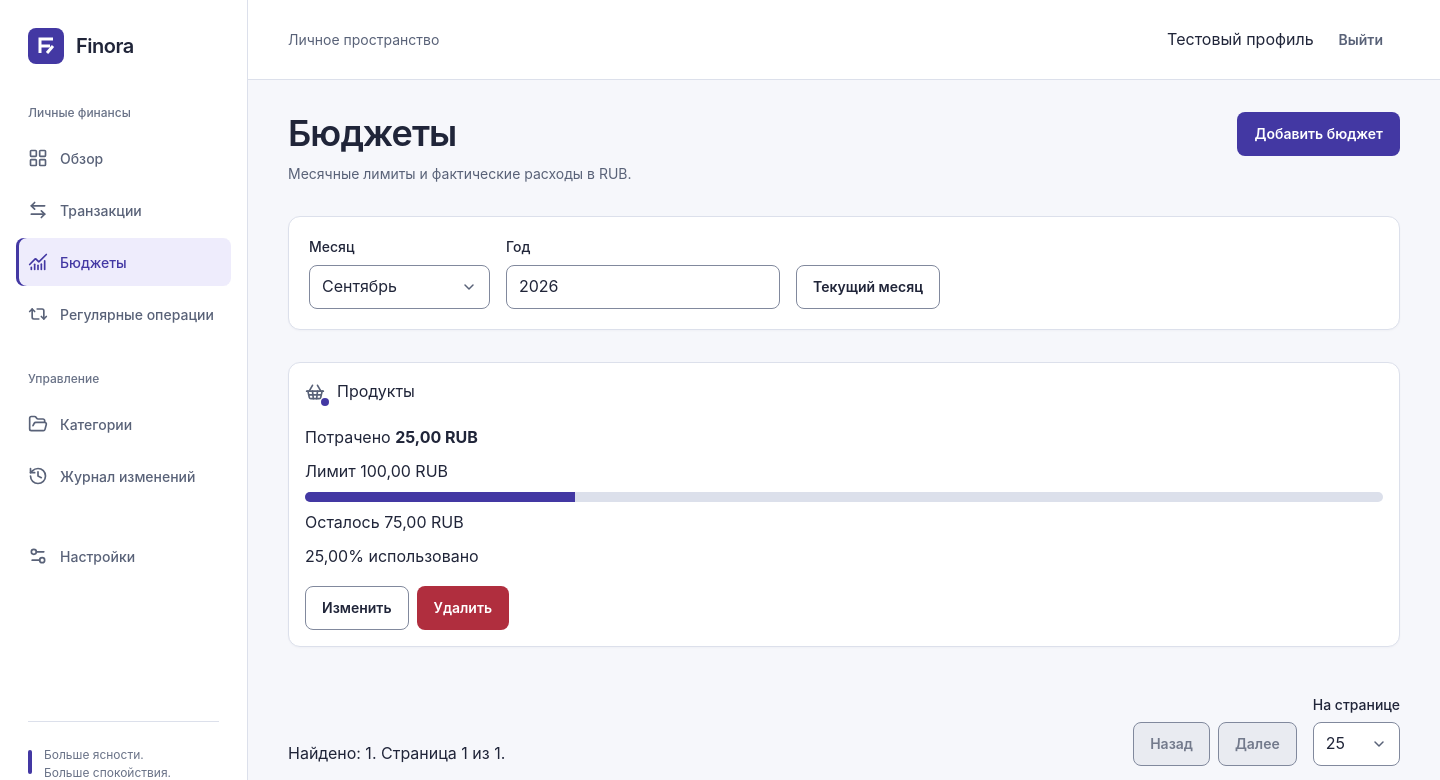
Test: Budget edit отправляет PATCH, обновляет результат без reload
The width and height of the screenshot is (1440, 780).
Click the button "Изменить": (357, 608) [305,586,408,630]
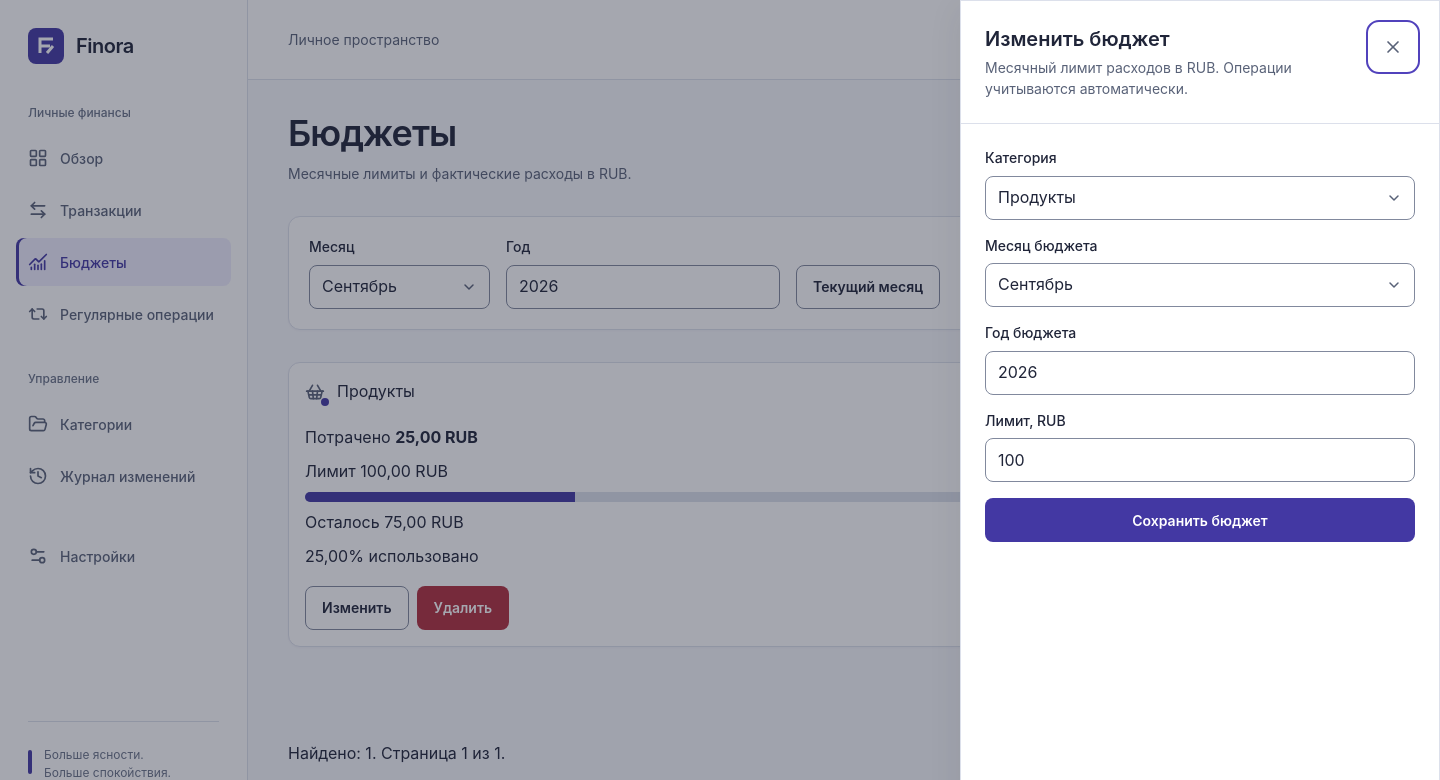
Expected: the button "Сохранить бюджет" is enabled, [985,498,1415,542]
Expected: the field labelled "Лимит, RUB" holds "100"
Replace the text in the field labelled "Лимит, RUB" with "150": (1200, 460) [985,438,1415,482]
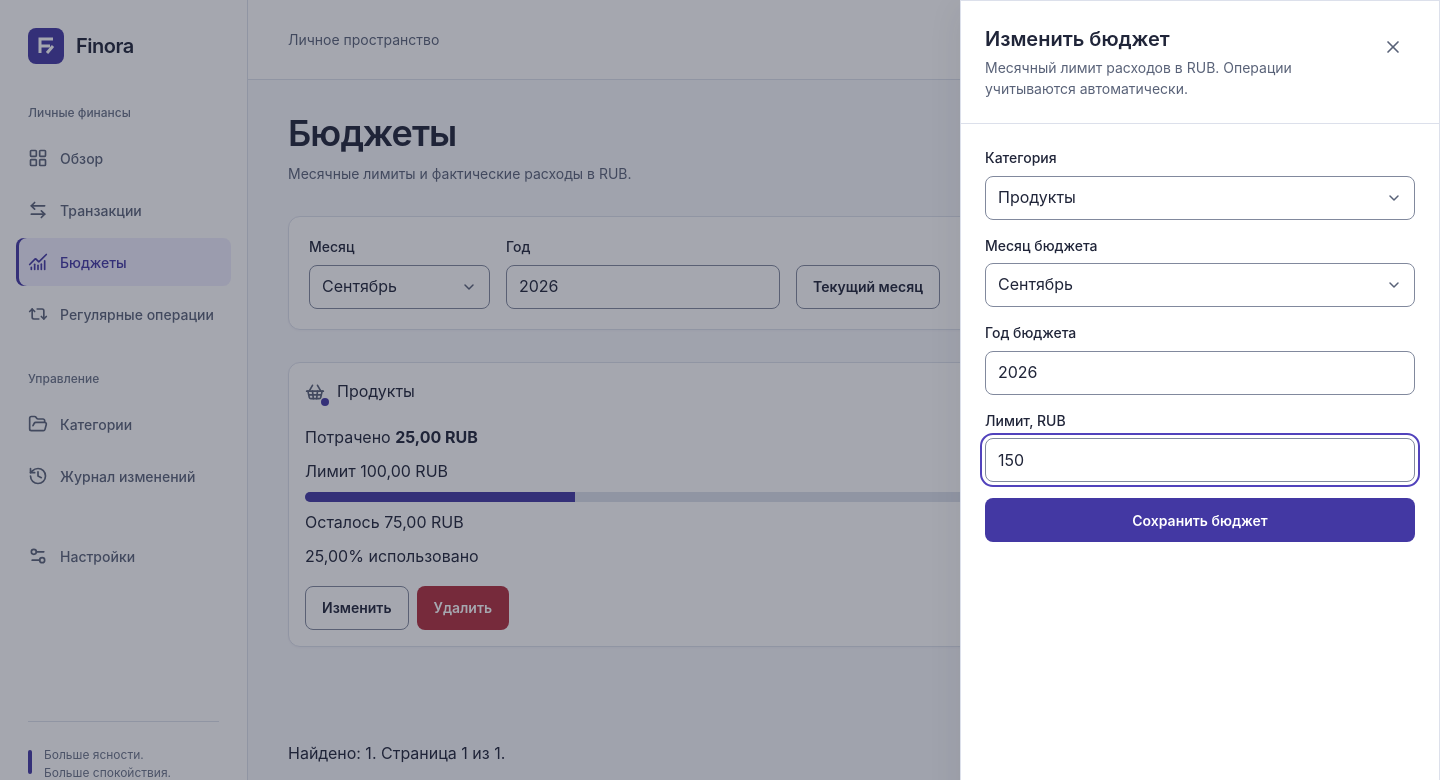
Click the button "Сохранить бюджет": (1200, 520) [985,498,1415,542]
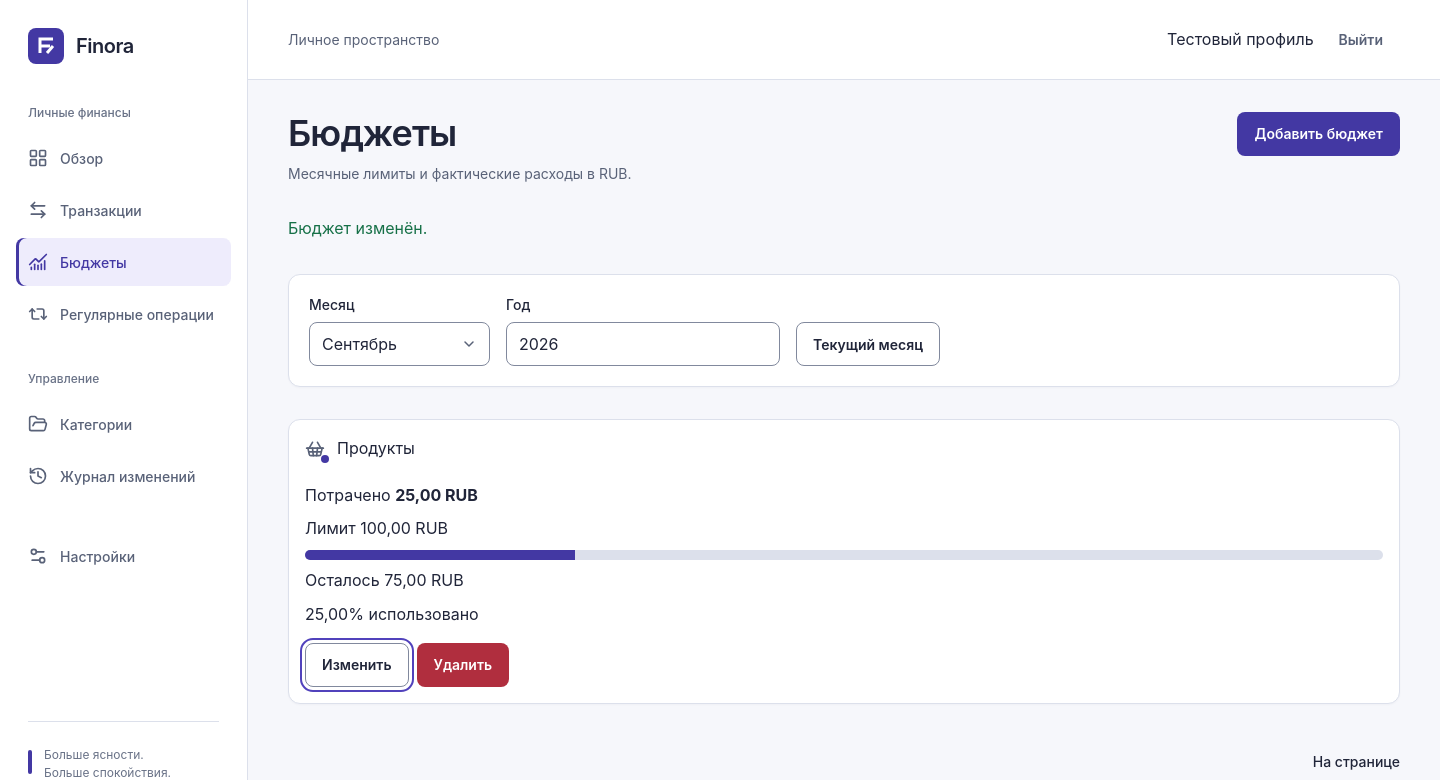
Expected: the text "Бюджет изменён." is shown, [288,218,427,238]
